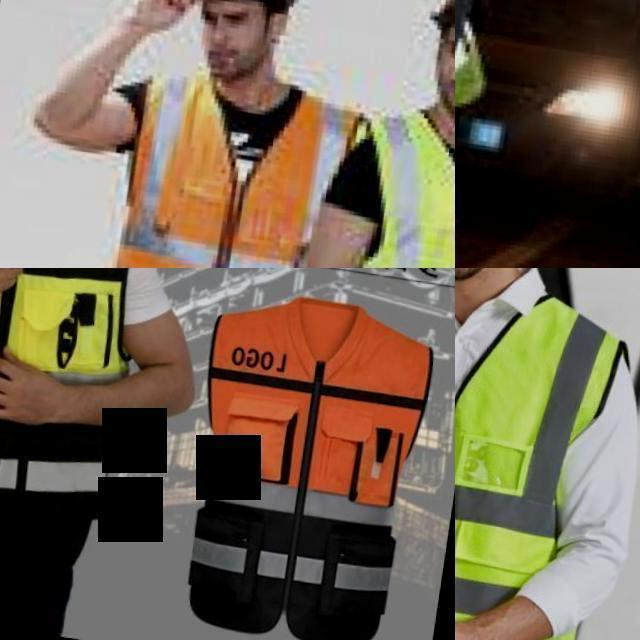vest: (190, 292, 443, 552), (455, 279, 622, 640), (107, 92, 352, 268), (0, 268, 150, 414), (351, 117, 455, 268)
